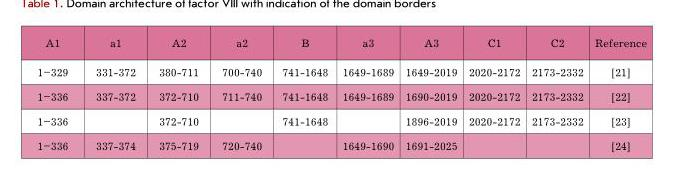table: (36, 36, 646, 152)
table column: (81, 36, 146, 152), (334, 36, 399, 152), (146, 36, 209, 152), (271, 36, 334, 152), (399, 36, 462, 152), (462, 36, 525, 152), (525, 36, 588, 152), (209, 36, 271, 152), (588, 36, 646, 152), (36, 36, 81, 152)
table column header: (36, 36, 646, 57)
table row: (36, 57, 646, 84), (36, 108, 646, 133), (36, 84, 646, 108), (36, 36, 646, 57), (36, 133, 646, 152)
